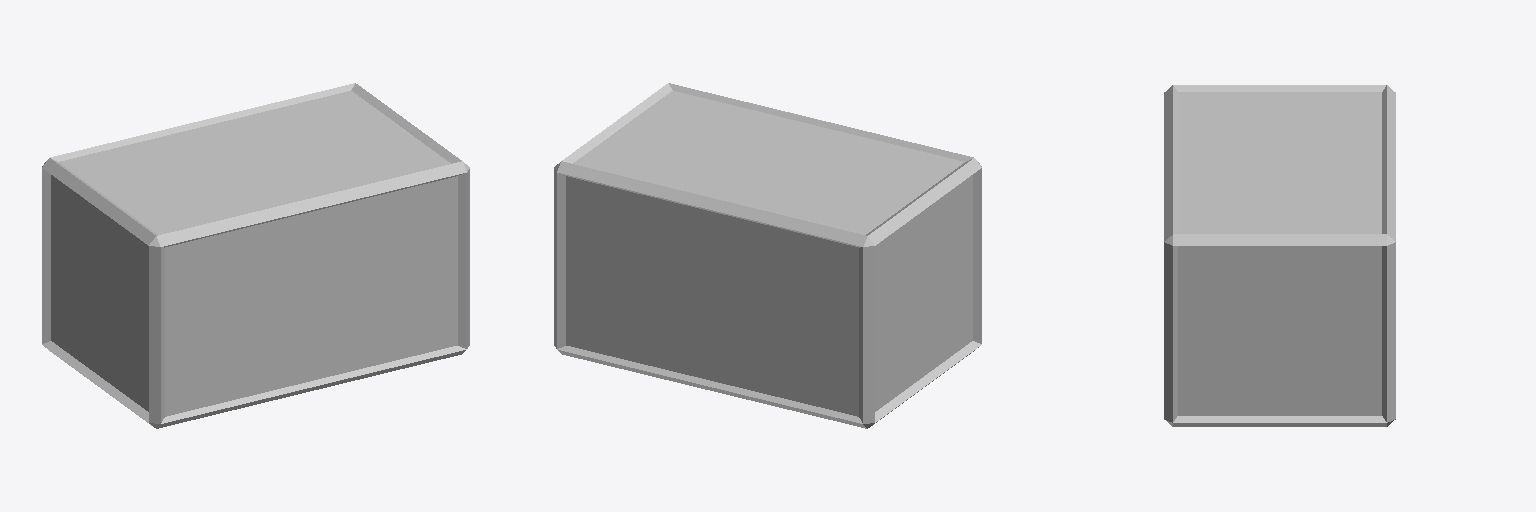
File: box_with_edges.obj
3 renders of one model, left to right at view 1: azimuth 30°, elevation 25°; view 2: azimuth 150°, elevation 25°; view 3: azimuth 270°, elevation 25°, orthographic.
Visible parts, largest first — view 1: Cube_Cube.001; view 2: Cube_Cube.001; view 3: Cube_Cube.001.
Part boxes in pixels (bbox=[...]): Cube_Cube.001: bbox=[42, 83, 469, 428]; Cube_Cube.001: bbox=[554, 83, 981, 428]; Cube_Cube.001: bbox=[1164, 85, 1395, 426].
Size of the model in its own units: 2.09 by 1.2 by 1.3.